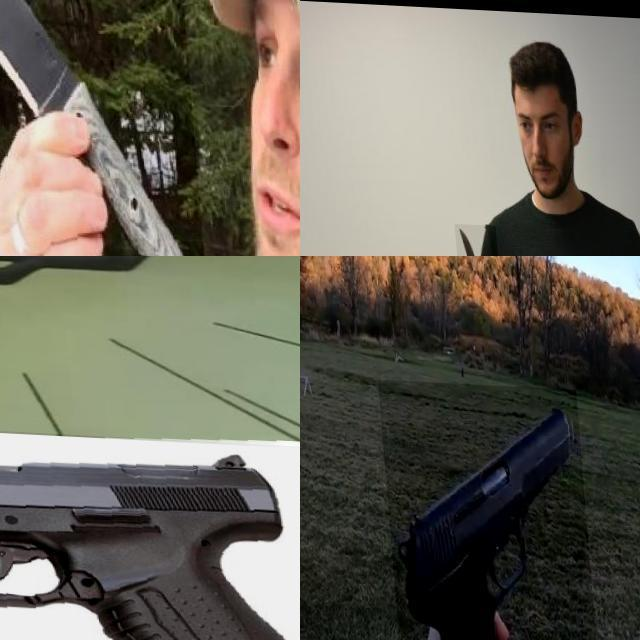-: (0, 0, 202, 256), (450, 221, 497, 256)
gun-knife-thesis - v11 Yolov5 augmented: (0, 415, 300, 640), (373, 377, 594, 640), (0, 256, 184, 329)
